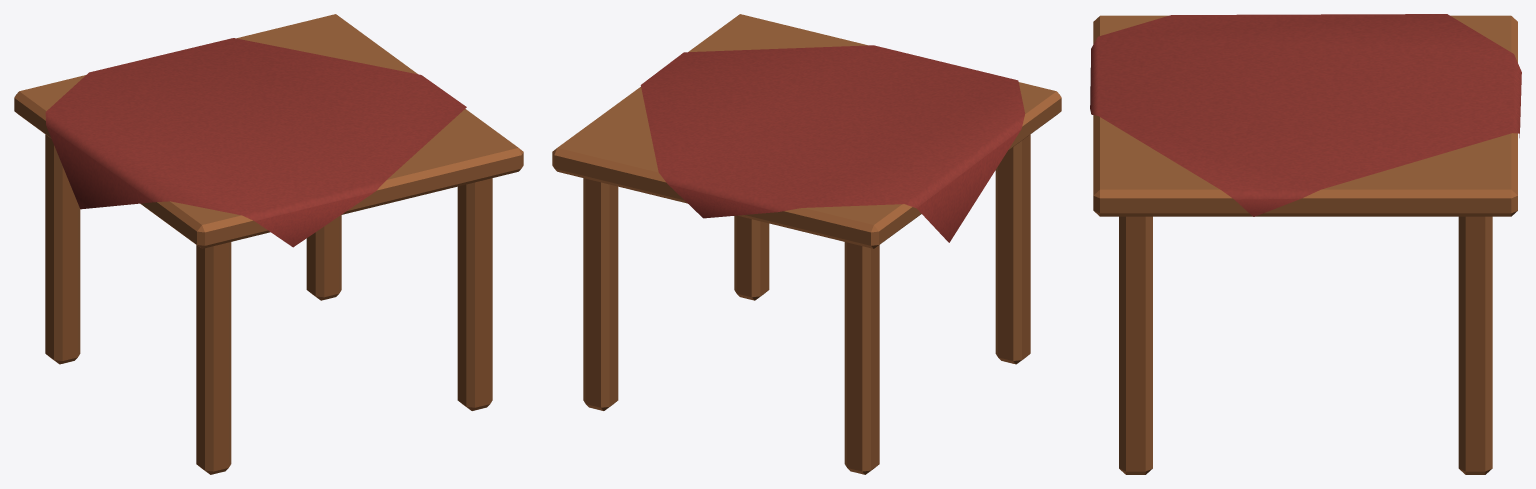
File: Table.FBX
The picture shows the model from 3 angles, left to right: view 1: azimuth 30°, elevation 25°; view 2: azimuth 150°, elevation 25°; view 3: azimuth 270°, elevation 25°; orthographic projection. The views are drawn at different scales.
Visible parts, largest first — view 1: Table; view 2: Table; view 3: Table.
Boxes of the visible parts, x1=… form: Table: x1=14, y1=14, x2=523, y2=474; Table: x1=552, y1=14, x2=1061, y2=474; Table: x1=1090, y1=14, x2=1521, y2=474.
Bounding box in the file's own units: 102 × 77.18 × 102.
1 material, 1 textured.
